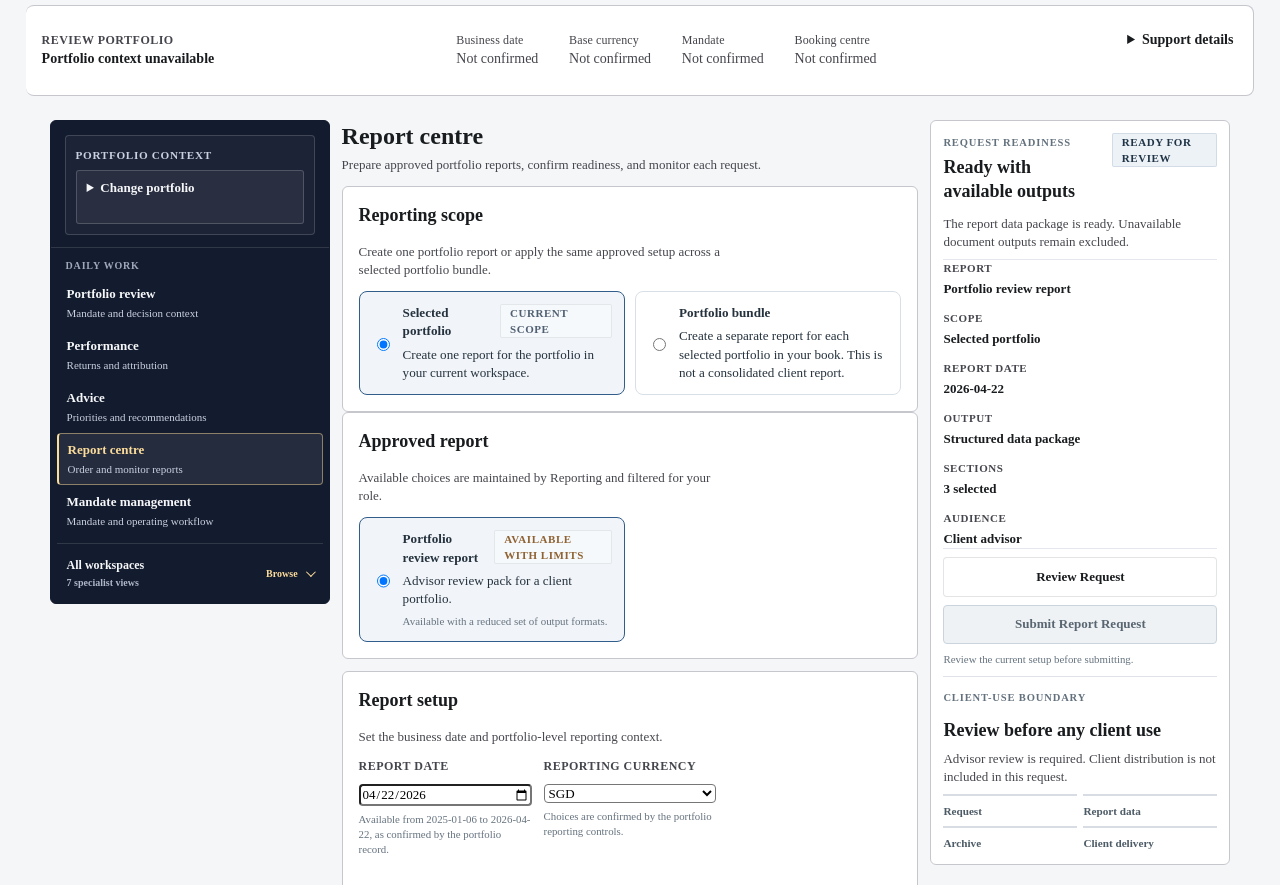
it: ReportOrderingWorkspace › requires an explicit review before idempotent submission
The image size is (1280, 885).
Expected: the heading "Approved report" is shown, [359,431,488,451]
Expected: the button "Submit Report Request" is disabled, [943,605,1217,644]
Click the button "Review Request" at (1080, 577), box [943,557,1217,597]
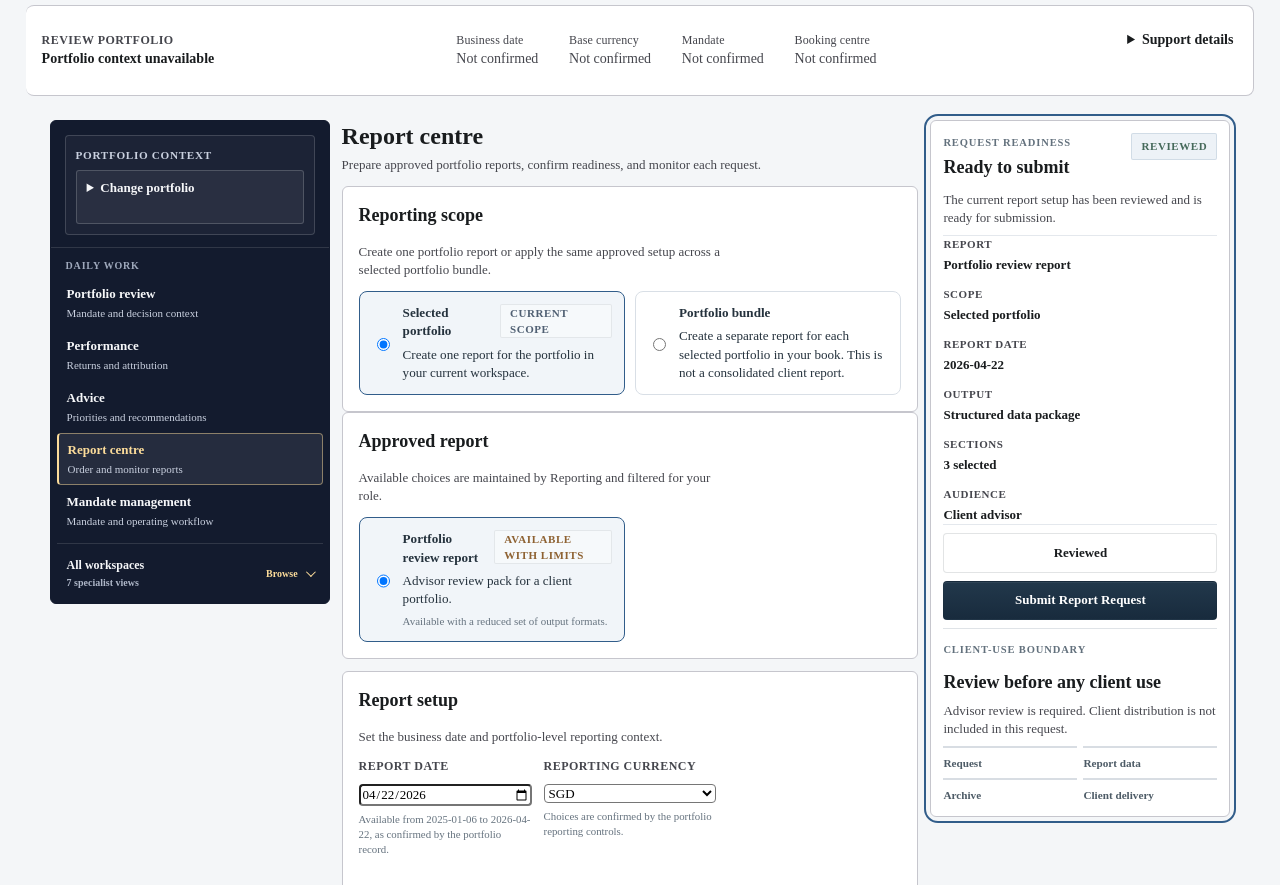
Now the button "Submit Report Request" is enabled
Click the button "Submit Report Request" at (1080, 600), box [943,581,1217,620]
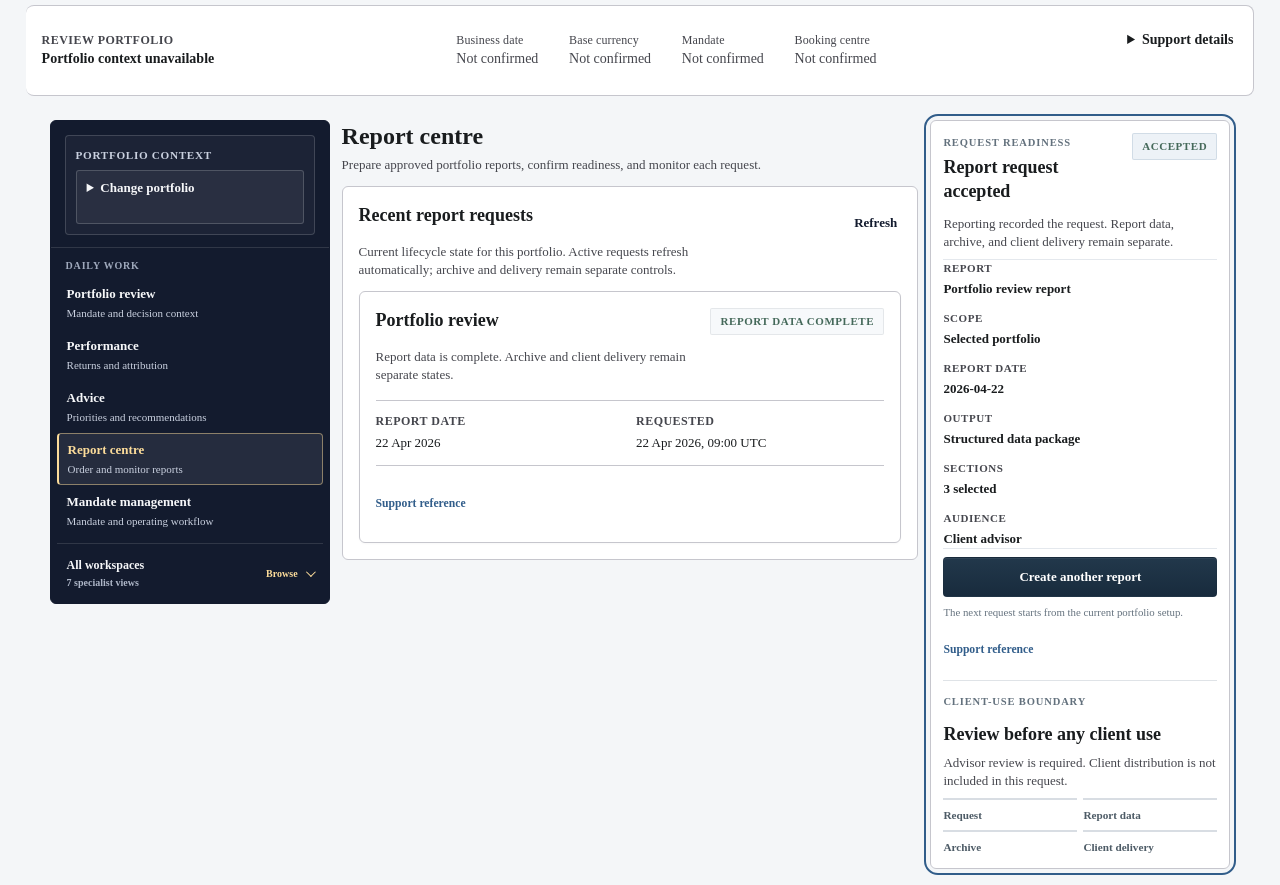
Now the heading "Report request accepted" is shown, box [943,157,1059,201]
Now the heading "Approved report" is gone
Now the button "Submit Report Request" is gone
Click the button "Create another report" at (1080, 577), box [943,557,1217,597]
(page scrolled)
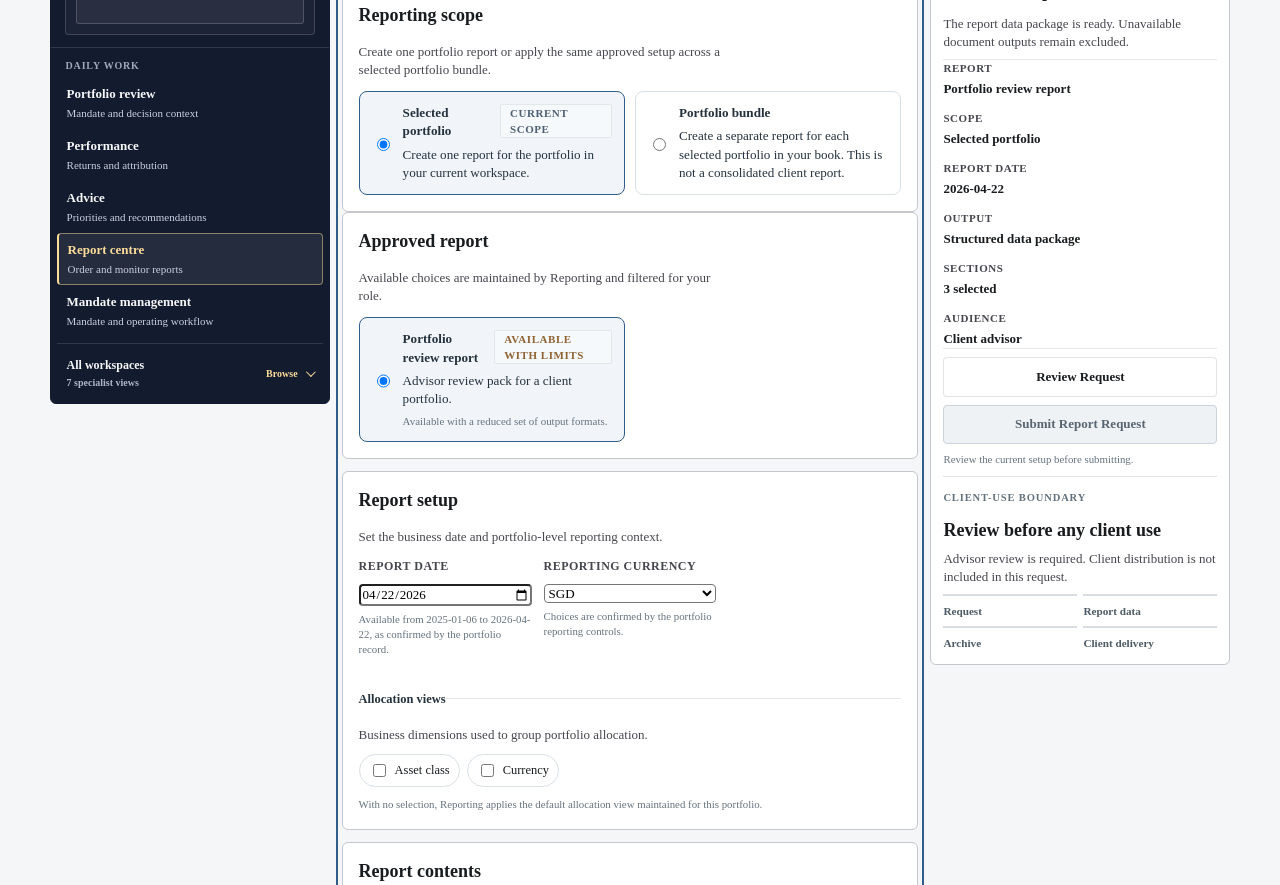
Now the heading "Approved report" is shown, box [359,231,488,251]
Now the heading "Report request accepted" is gone
Now the button "Submit Report Request" is disabled, box [943,405,1217,444]
